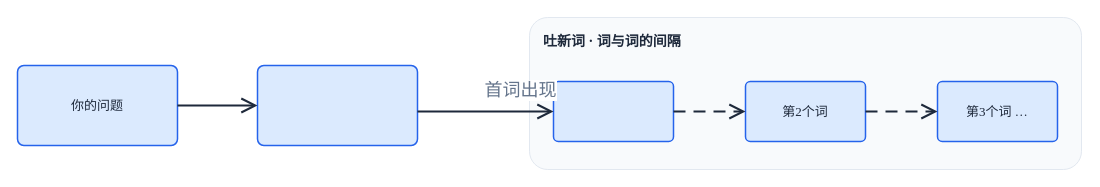
Image size: 1100x187. Some labels were removed from this diagram. The shapes that lost their labels are listed below. From the top down, each one's centre as x and y in pixels, then its label:
point 337,105: 读完问题 等到第一个词
point 613,111: 第1个词
